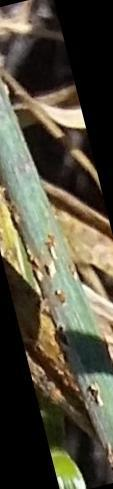Wheat: (30, 241, 87, 352)
